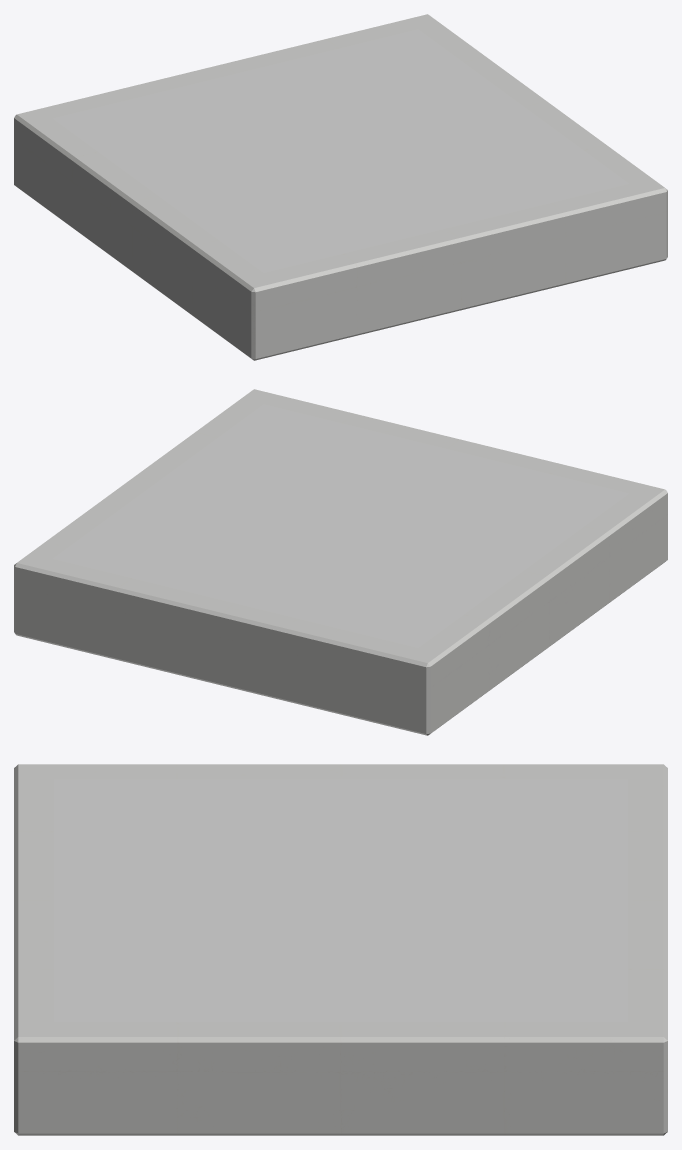
Rendered from PlatformSmall.fbx.
The picture shows the model from 3 angles, top to bottom: view 1: azimuth 30°, elevation 25°; view 2: azimuth 150°, elevation 25°; view 3: azimuth 270°, elevation 25°; orthographic projection. The views are drawn at different scales.
Parts seen in each view (by area): view 1: PlatformSmall; view 2: PlatformSmall; view 3: PlatformSmall.
Boxes of the visible parts, bbox=[...] form: PlatformSmall: bbox=[14, 14, 667, 360]; PlatformSmall: bbox=[14, 389, 667, 735]; PlatformSmall: bbox=[14, 764, 667, 1135].
Bounding box in the file's own units: 300 × 50 × 300.
